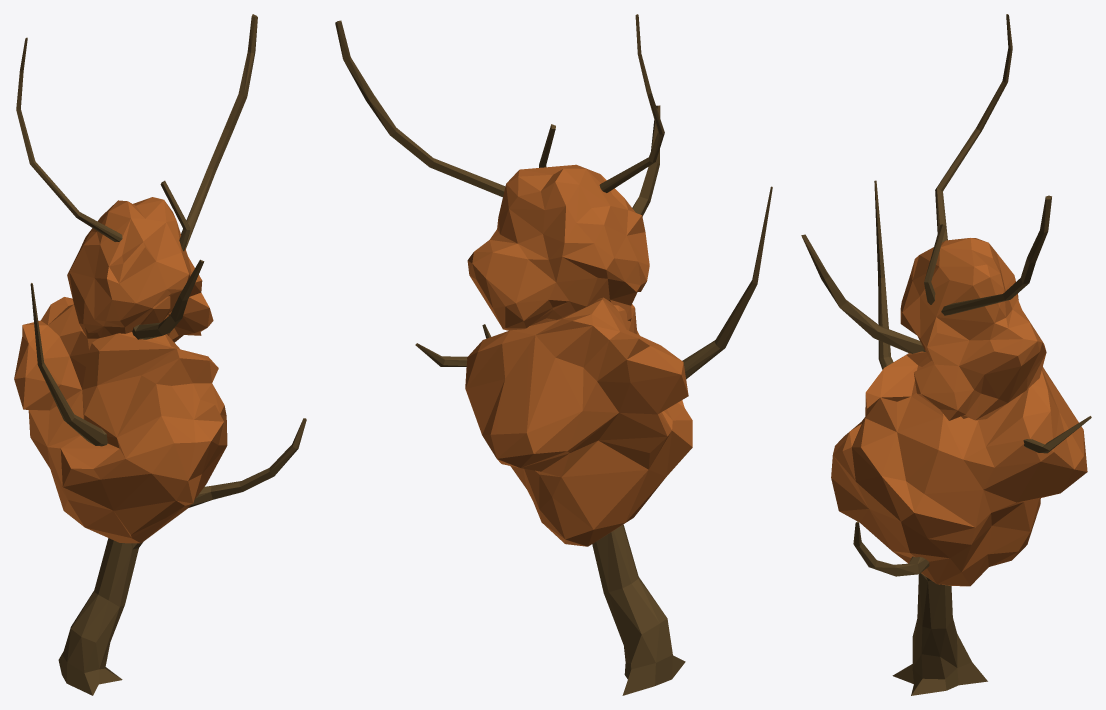
Rendered from roundTree2.fbx.
3 views of the same model, side by side, from view 1: azimuth 30°, elevation 25°; view 2: azimuth 150°, elevation 25°; view 3: azimuth 270°, elevation 25° (orthographic). The views are drawn at different scales.
Visible parts, largest first — view 1: Tree2; view 2: Tree2; view 3: Tree2.
Part boxes in pixels (x1=…): Tree2: x1=14, y1=14, x2=306, y2=695; Tree2: x1=335, y1=14, x2=772, y2=695; Tree2: x1=801, y1=14, x2=1091, y2=695.
Size of the model in its own units: 361 by 695 by 279.
